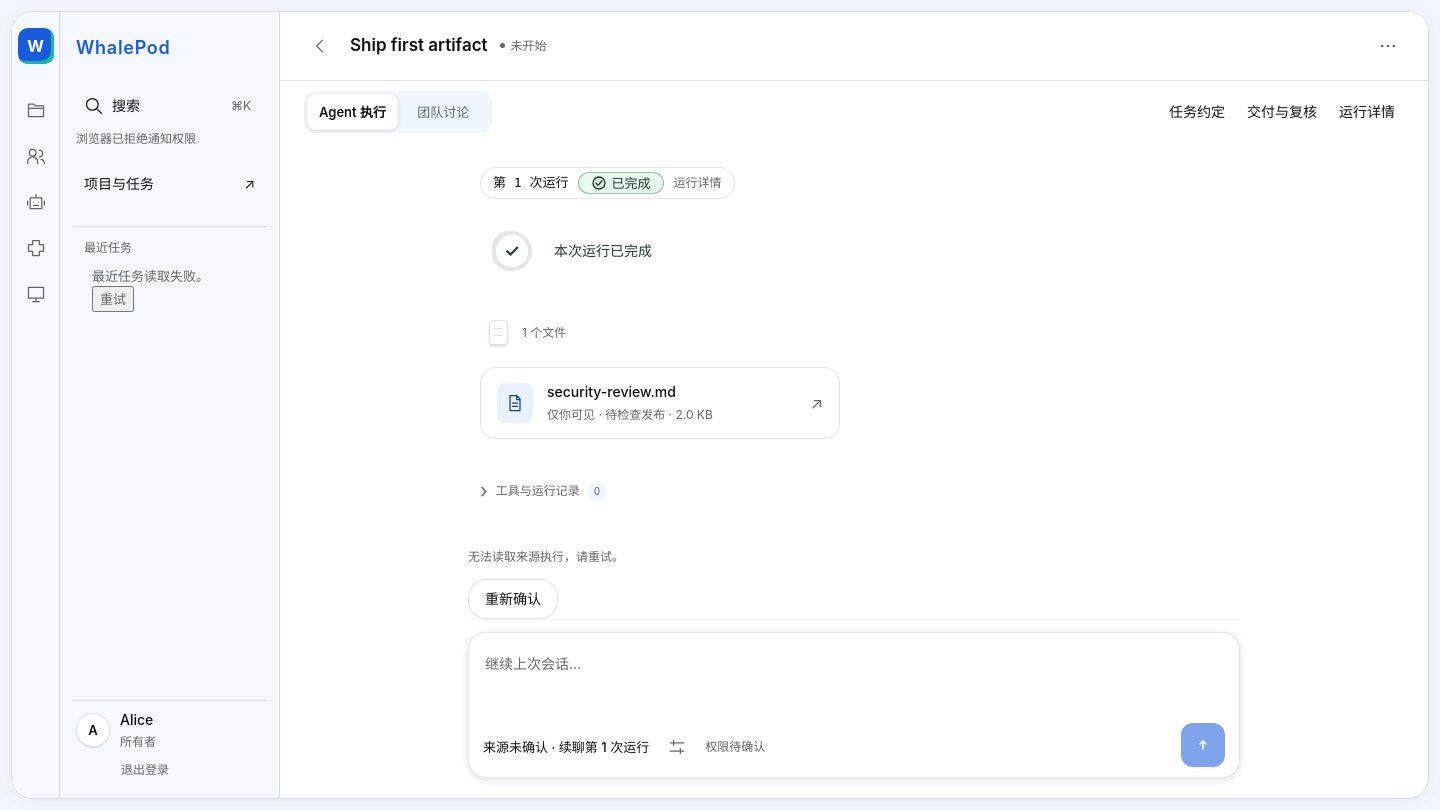
Test: 抽屉与二级页面的统一层级 › 内层确认框拥有 Escape，即使焦点暂留触发器也不关闭抽屉
Click the button "security-review.md 仅你可见 · 待检查发布 · 2.0 KB ↗" at (515, 403), box [480,367,840,439]
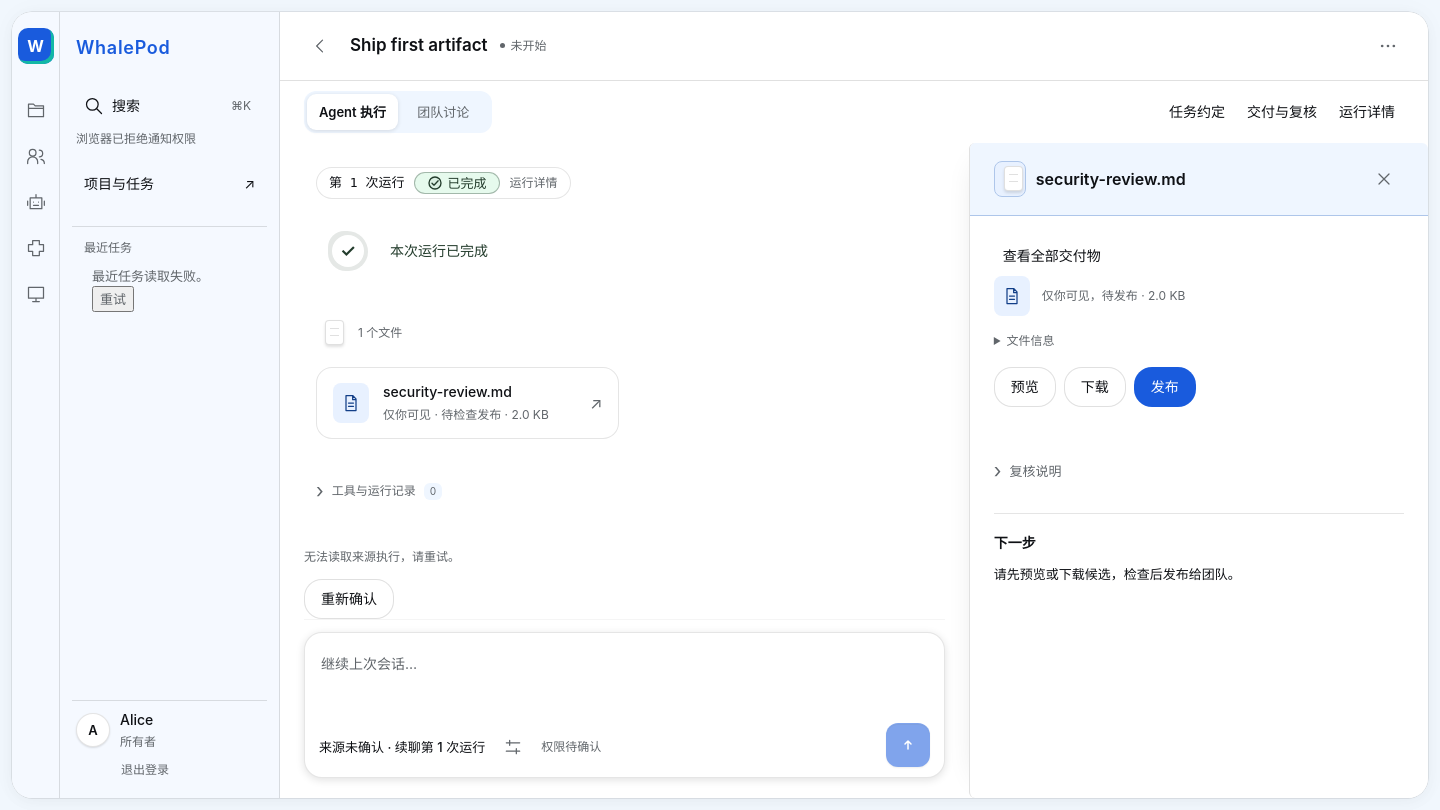
Click the button with test id "artifact-publish-button" at (1165, 387), box [1134,367,1196,407]
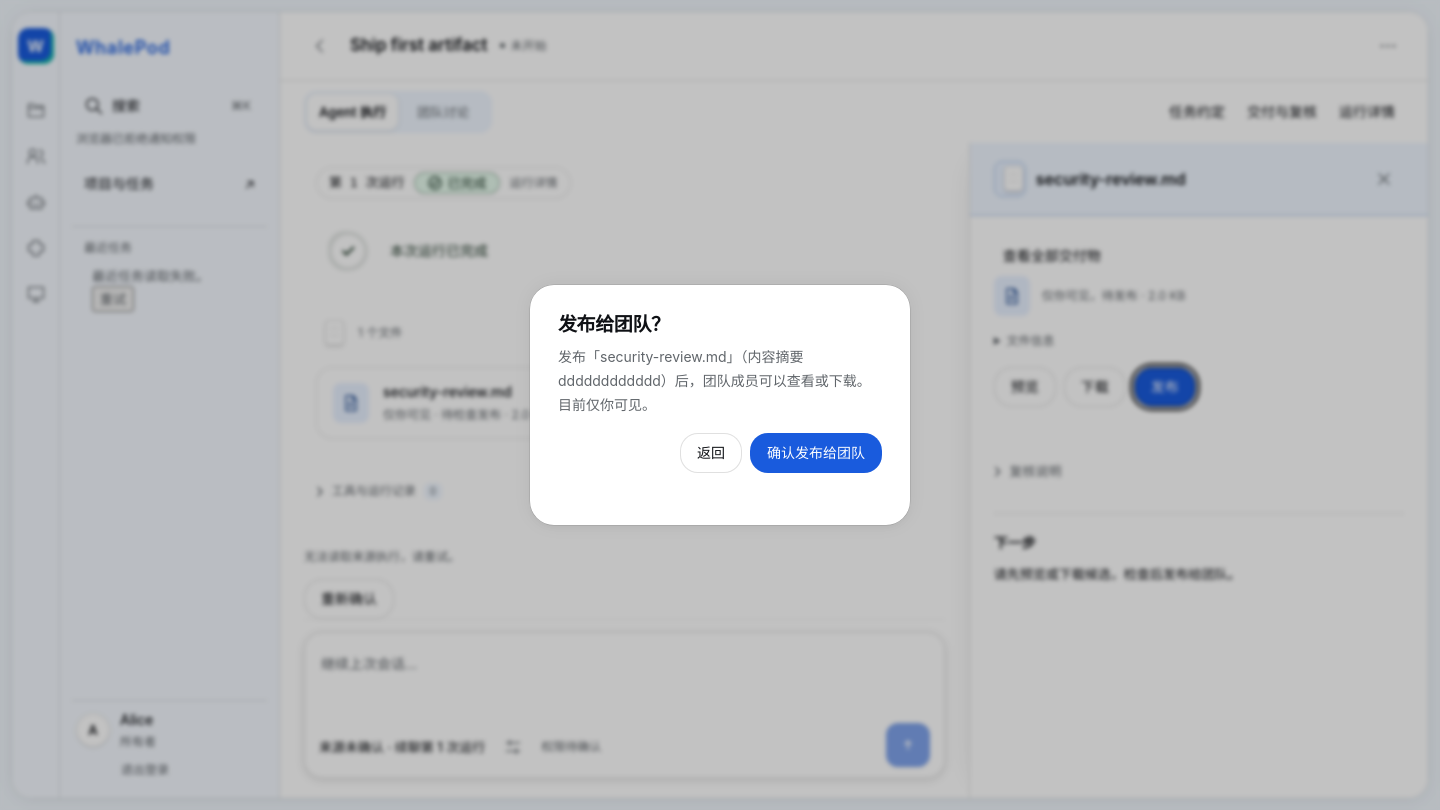
Expected: the dialog is shown, [530,285,910,524]
Press Escape
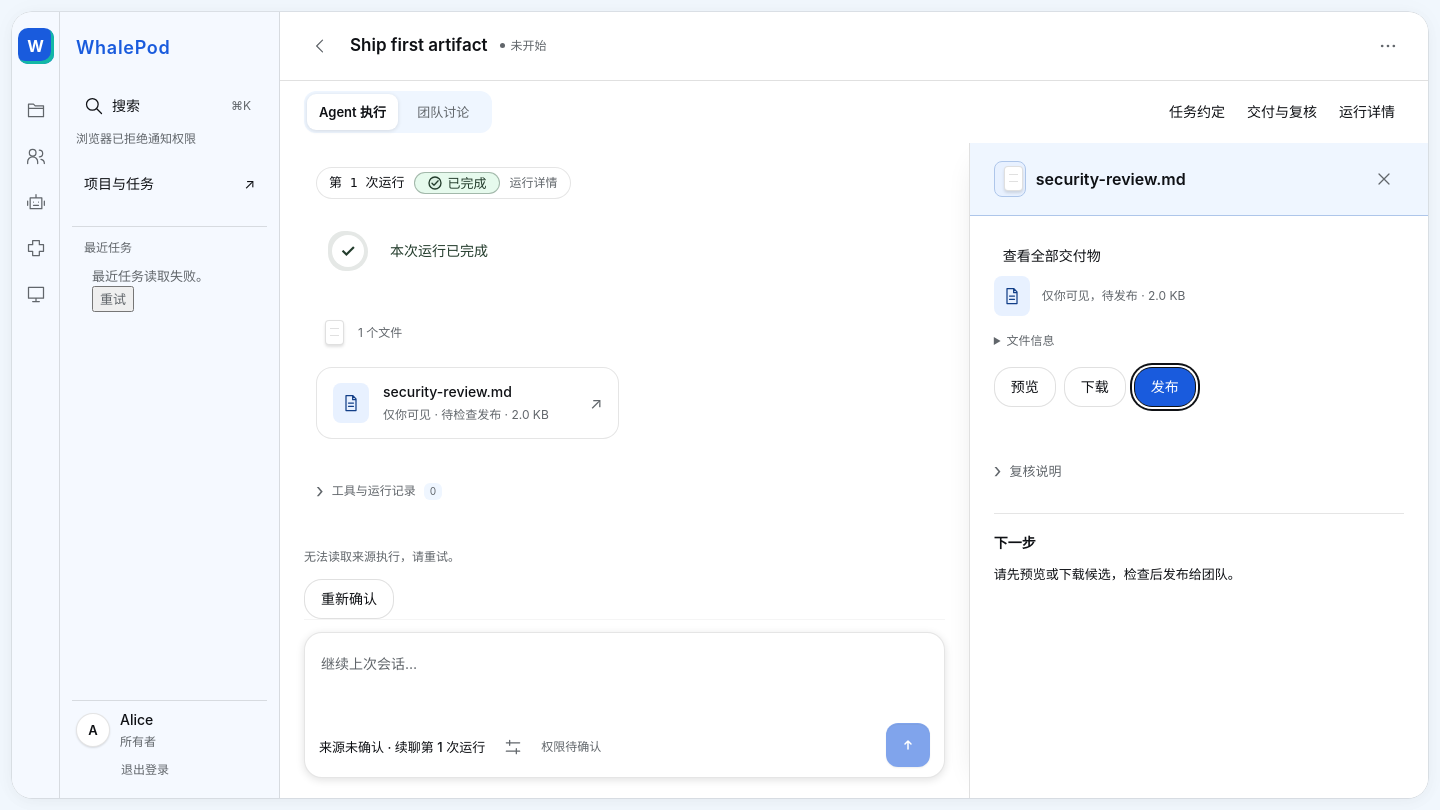
Expected: the element named "工作区详情" is shown, [969,143,1428,798]
Expected: the dialog is gone
